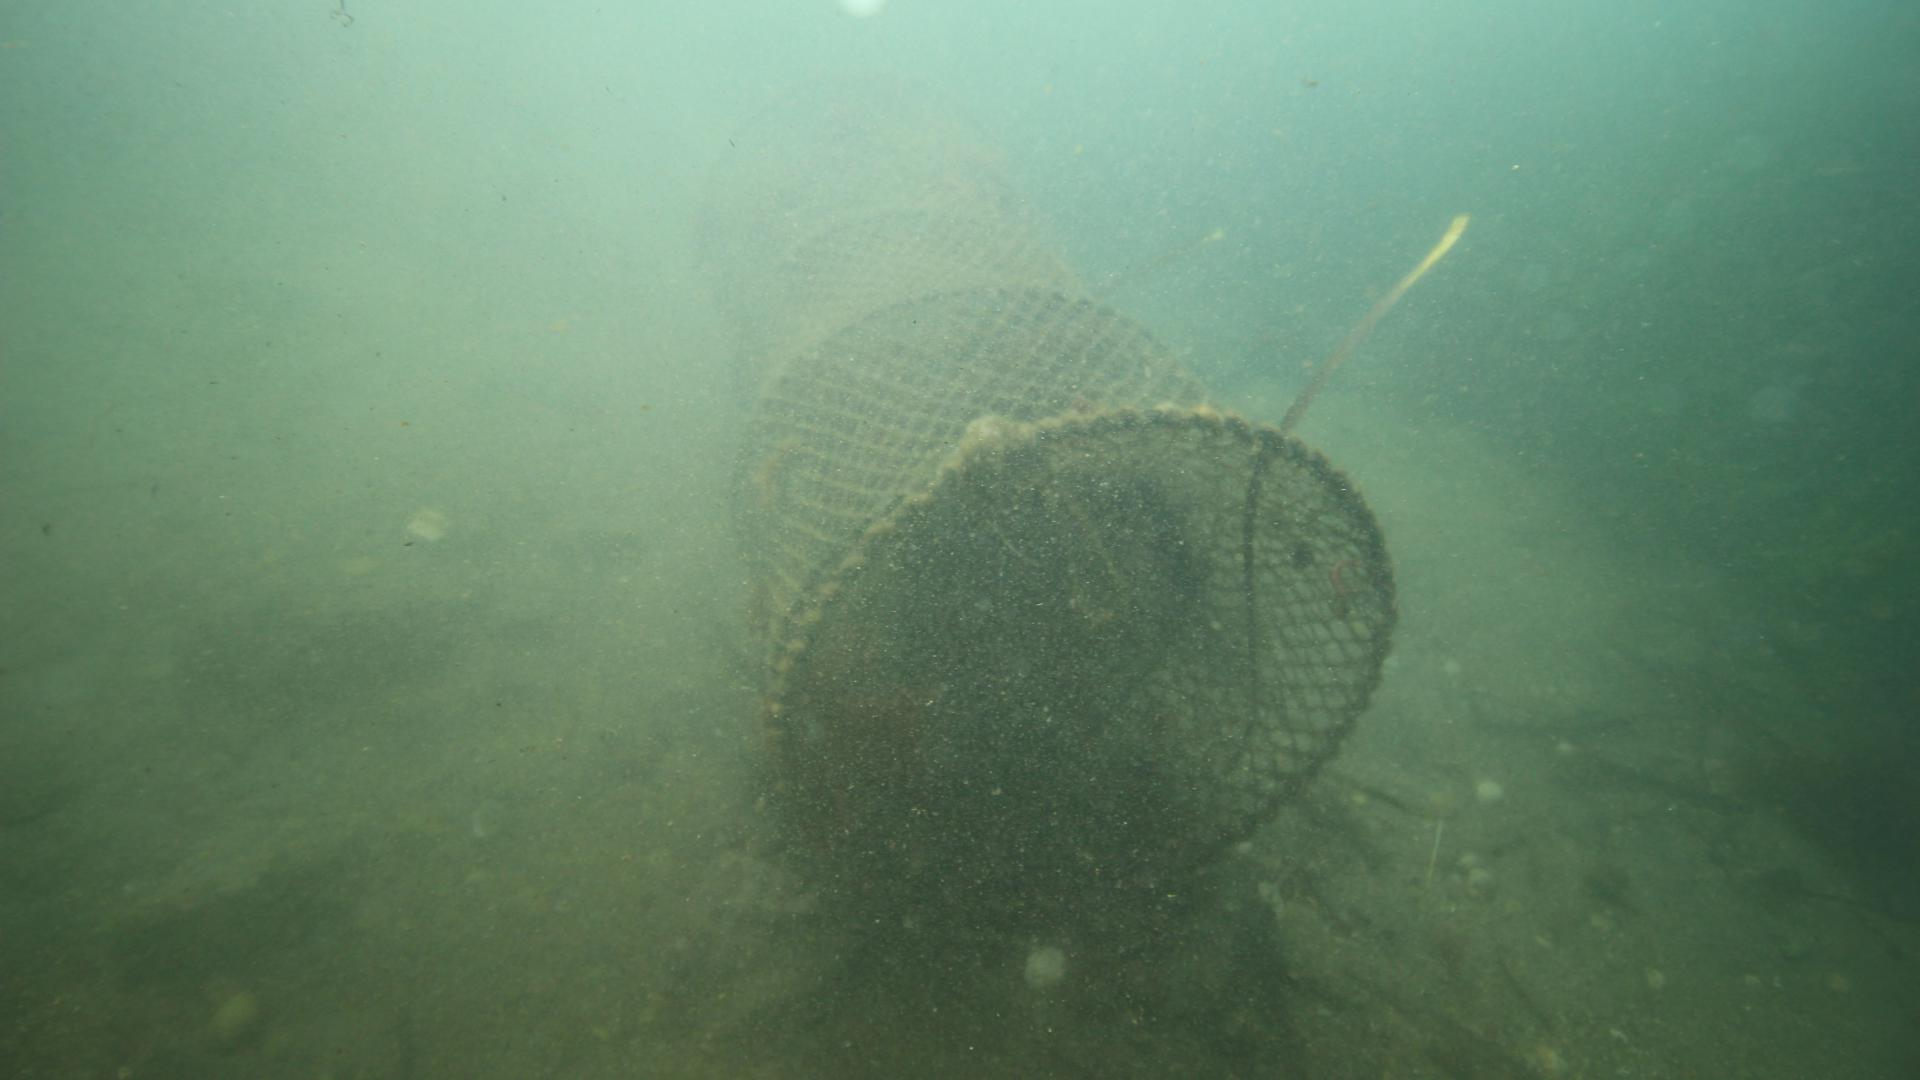spring fish trap: (702, 74, 1400, 949)
